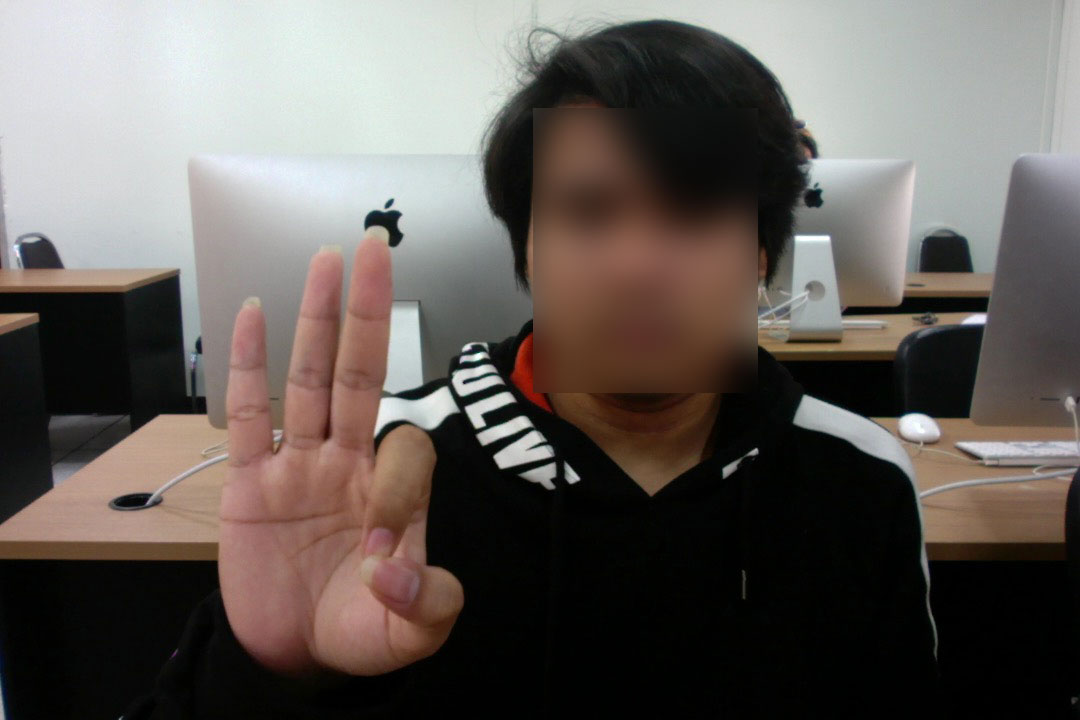for: (201, 220, 475, 707)
